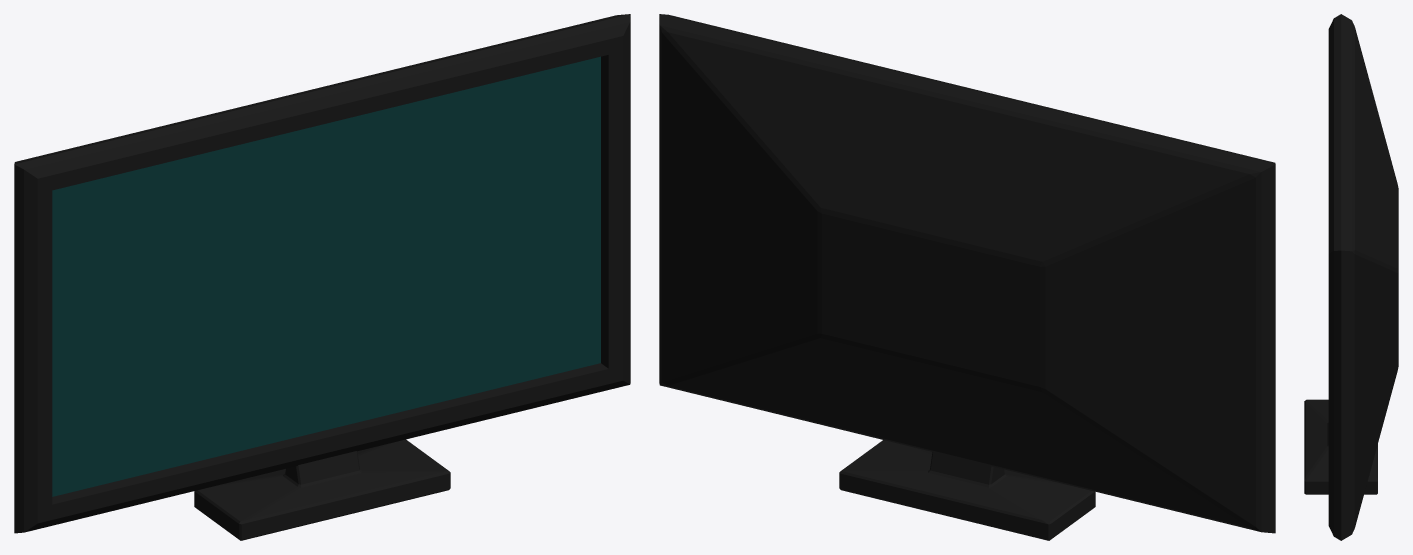
3 renders of one model, left to right at view 1: azimuth 30°, elevation 25°; view 2: azimuth 150°, elevation 25°; view 3: azimuth 270°, elevation 25°, orthographic. The views are drawn at different scales.
Parts seen in each view (by area): view 1: Television_B; view 2: Television_B; view 3: Television_B.
Part boxes in pixels (x1,y1,x2,y2): Television_B: (14,14,630,540); Television_B: (659,14,1275,540); Television_B: (1304,14,1398,540).
Size of the model in its own units: 1.88 by 1.19 by 0.3153.
